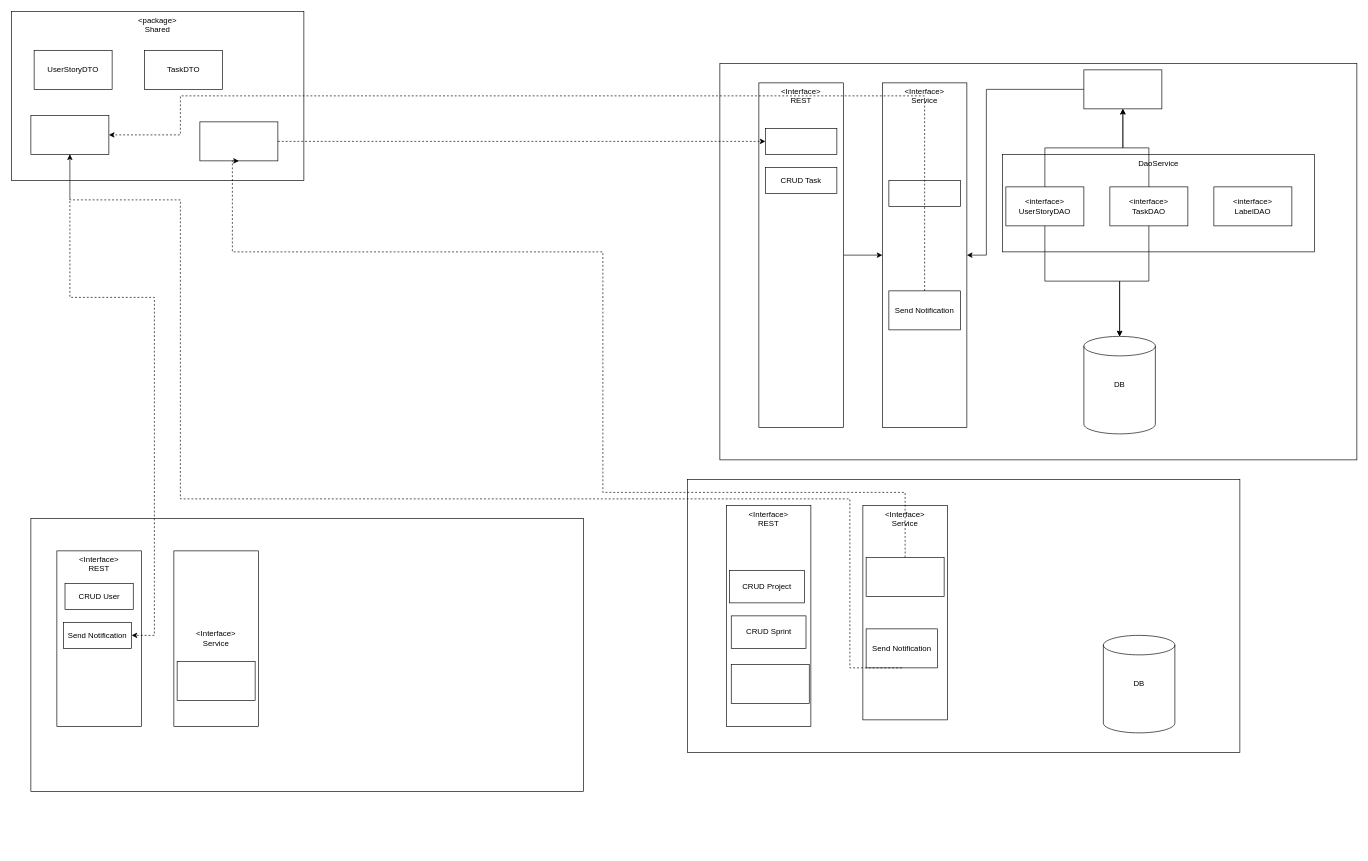
Image size: 1368x861. Some labels were removed from this diagram. Here are the shapes that lost their labels. From the top down, the box of each, then its label:
(1083, 69, 1162, 109): <Service> ServiceImpl
(30, 115, 109, 154): FeingClientUser
(199, 121, 278, 161): FeingClientUserStory
(765, 128, 837, 154): CRUD UserStory
(888, 180, 960, 206): CRUD Label
(719, 63, 1357, 460): UserStory Microservice
(865, 557, 944, 596): Bring userStories
(687, 479, 1240, 752): Project Microservice
(30, 518, 583, 791): User Microservice
(176, 661, 255, 700): Assign UserToProject
(731, 664, 809, 704): CRUD AssignedUser
